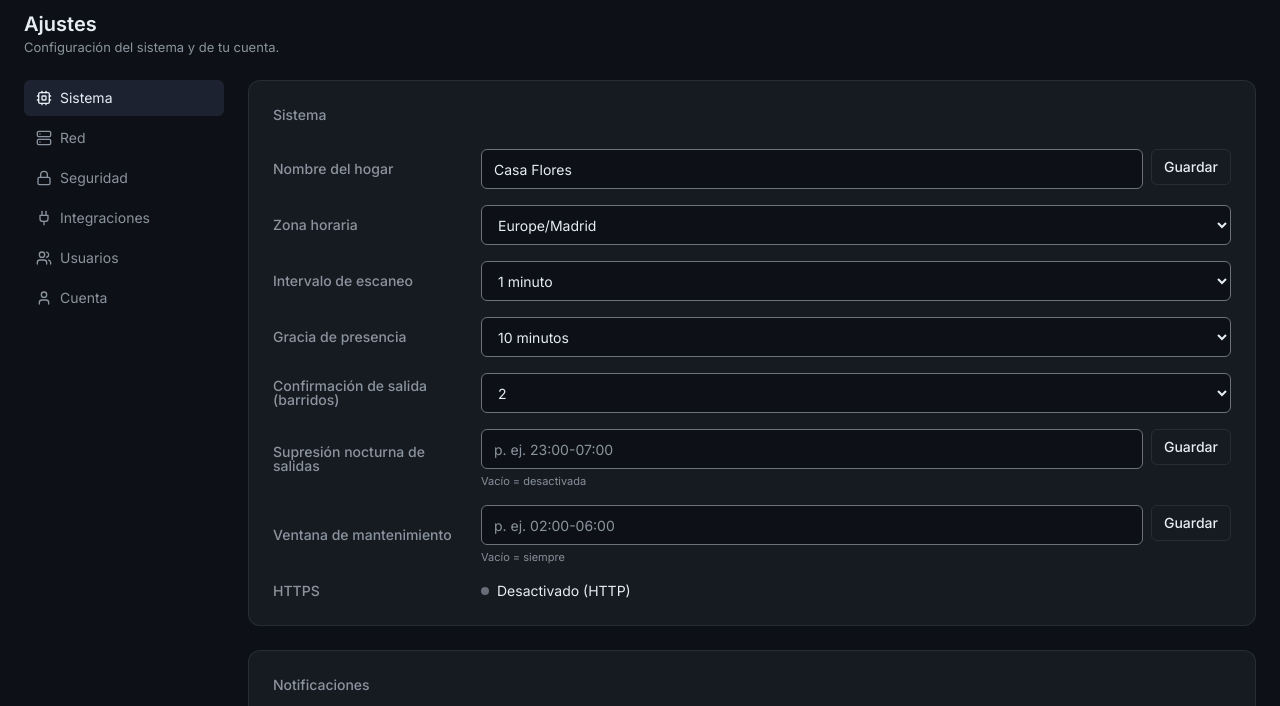
Test case: SettingsPage: auditoría y carga de ajustes › si la auditoría falla lo dice con reintento y no dice «sin actividad»
Click the button "Cuenta" at (124, 298), box x1=24 y1=280 x2=224 y2=316
(page scrolled)
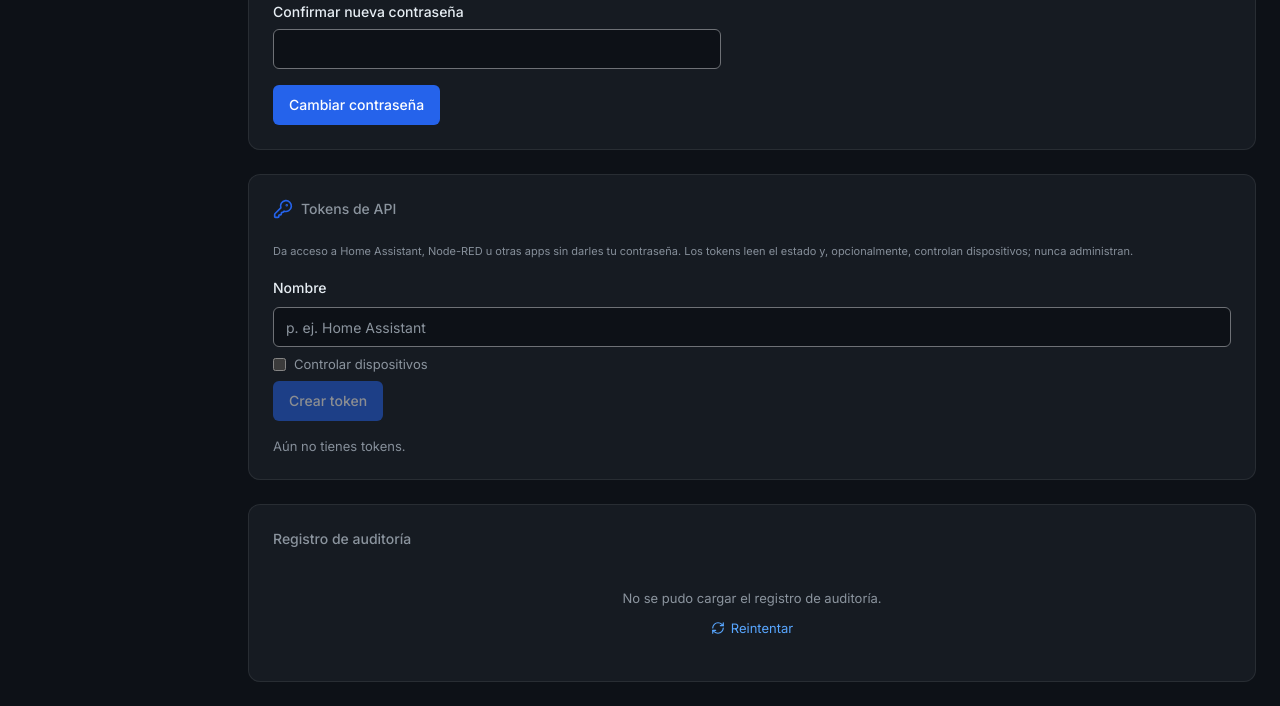
Expected: the text "Sin actividad registrada." is not shown
Result: the text "No se pudo cargar el registro de auditoría." is shown at x1=622 y1=589 x2=882 y2=607
Click the button "Reintentar" at (752, 628), box x1=703 y1=615 x2=801 y2=641
(page scrolled)
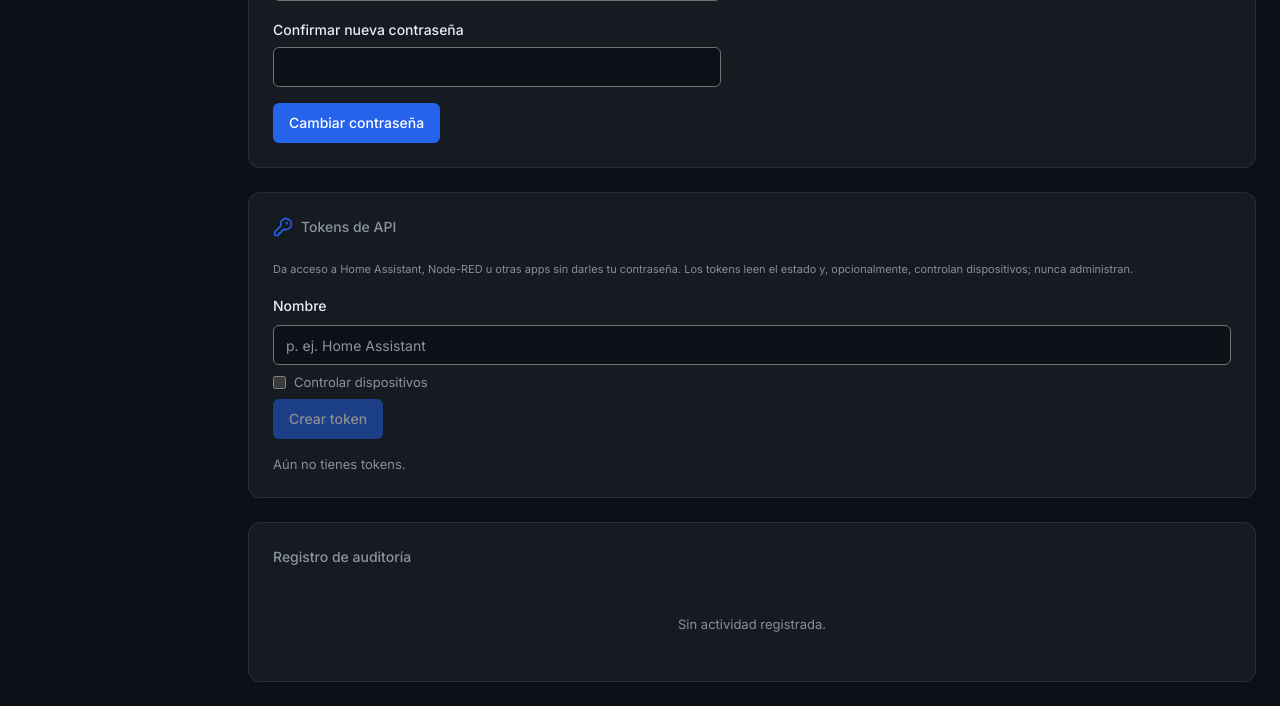
Result: the text "Sin actividad registrada." is shown at x1=678 y1=616 x2=826 y2=632
